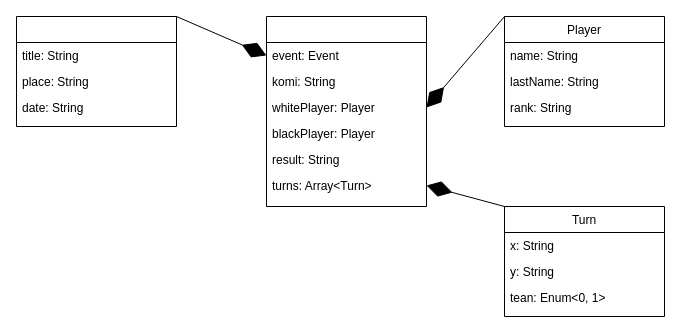
Some shapes in this 681 by 333 pixel diagram are drawn without their labels. The box of each missing label's shape, as (x1, y1, x2, y2) in pixels:
Event: (16, 16, 176, 126)
Match: (266, 16, 426, 206)
